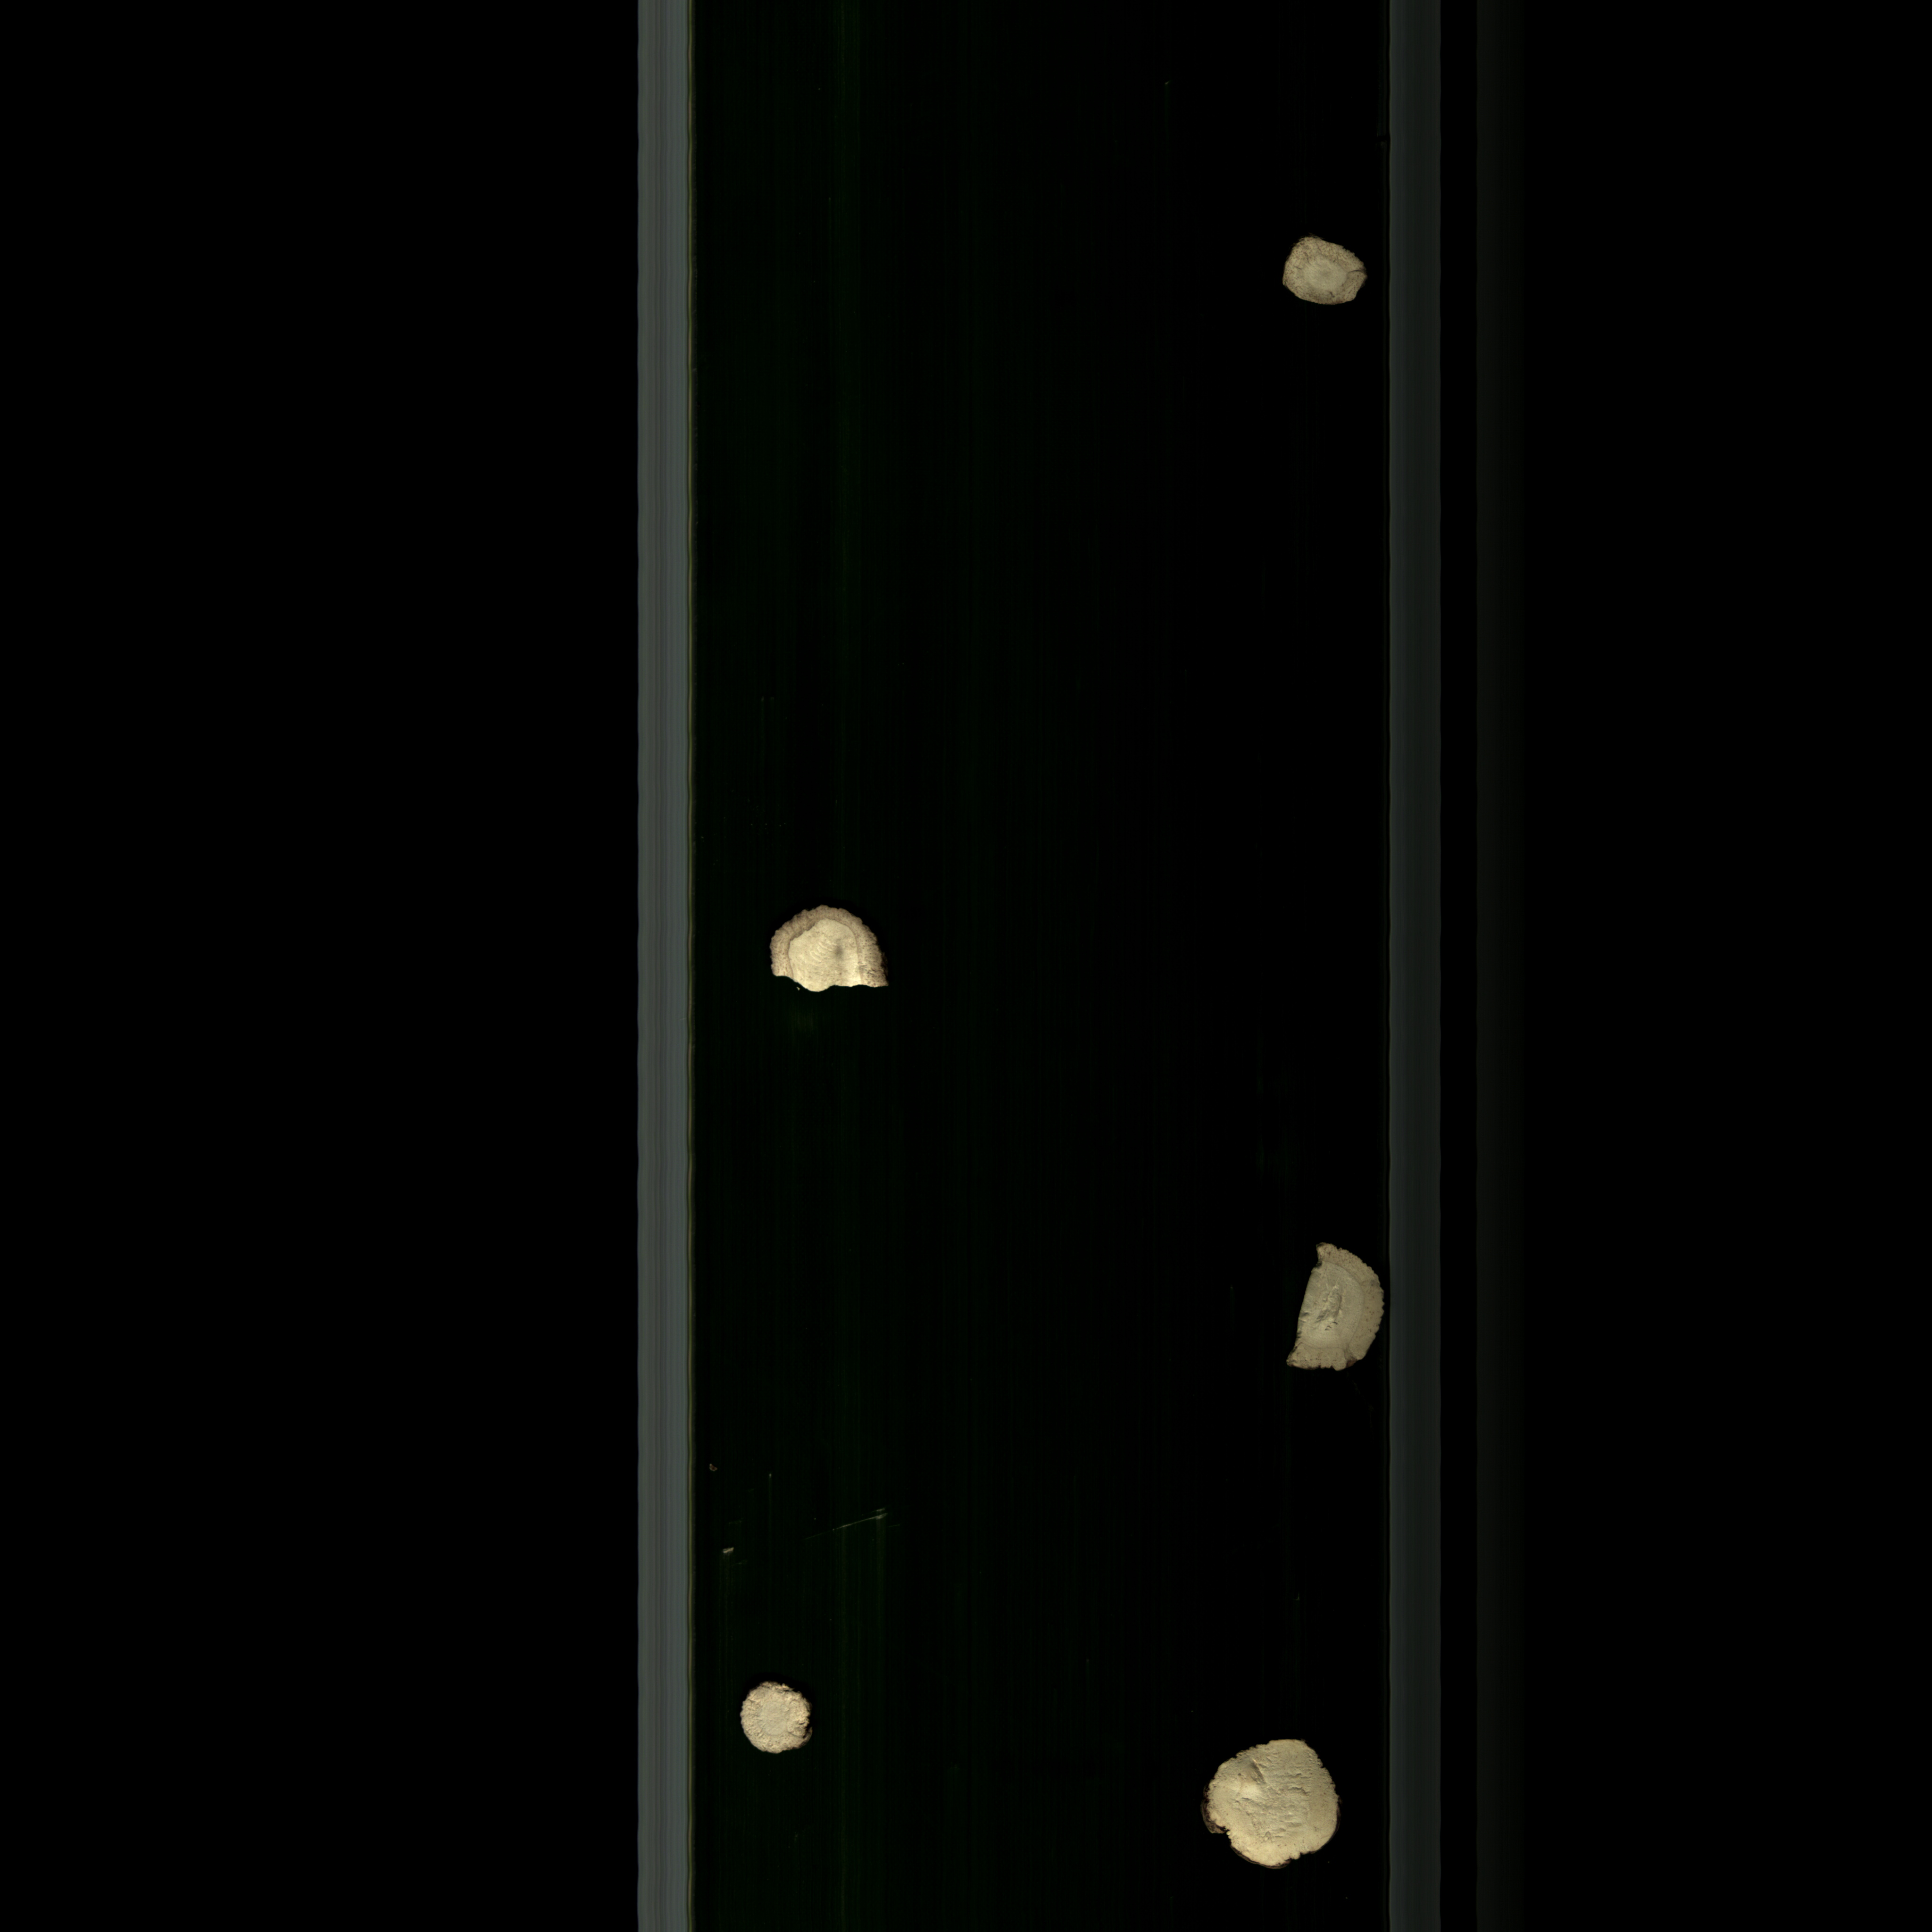debris: (724, 899, 906, 1017), (1283, 1231, 1396, 1392)
moldy: (1276, 225, 1380, 322)
